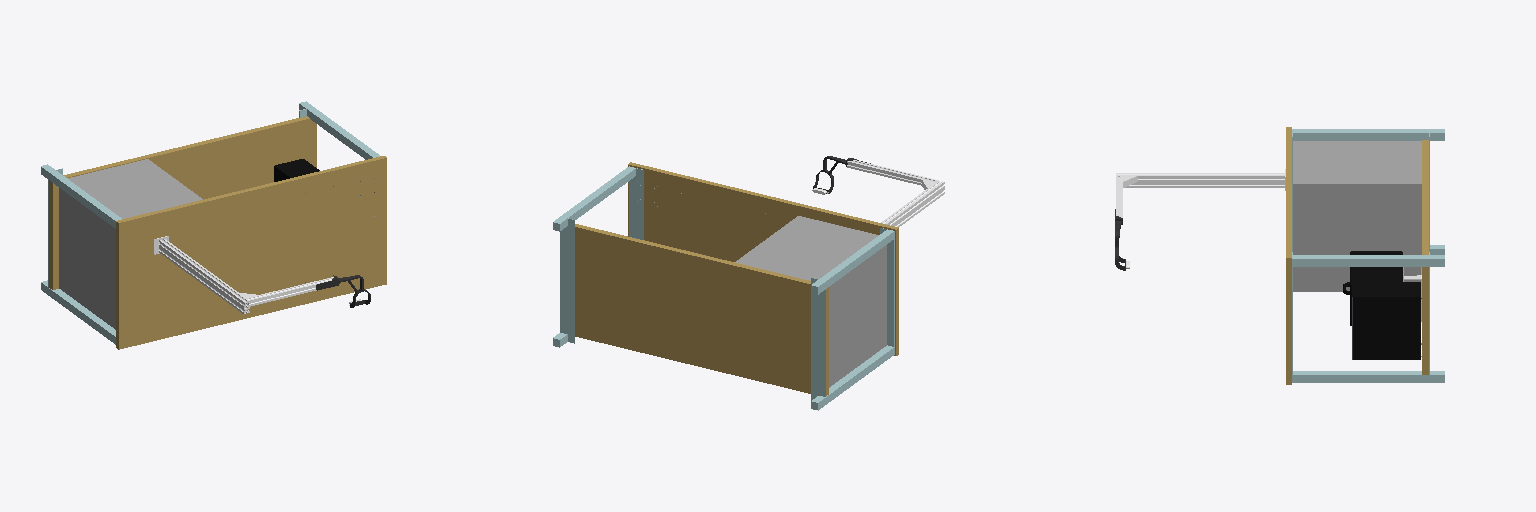
File: Table.obj
3 views of the same model, side by side, from view 1: azimuth 30°, elevation 25°; view 2: azimuth 150°, elevation 25°; view 3: azimuth 270°, elevation 25° (orthographic).
Parts seen in each view (by area): view 1: Body1:3, Body1; view 2: Body1:3, Body1; view 3: Body1:3, Body1.
Part boxes in pixels (x1,y1,x2,y2): Body1:3: (41,101,386,349); Body1: (154,236,333,313); Body1:3: (553,162,898,410); Body1: (847,160,944,226); Body1:3: (1286,127,1444,384); Body1: (1116,169,1285,217).
Size of the model in its own units: 1.82 by 0.82 by 1.94.